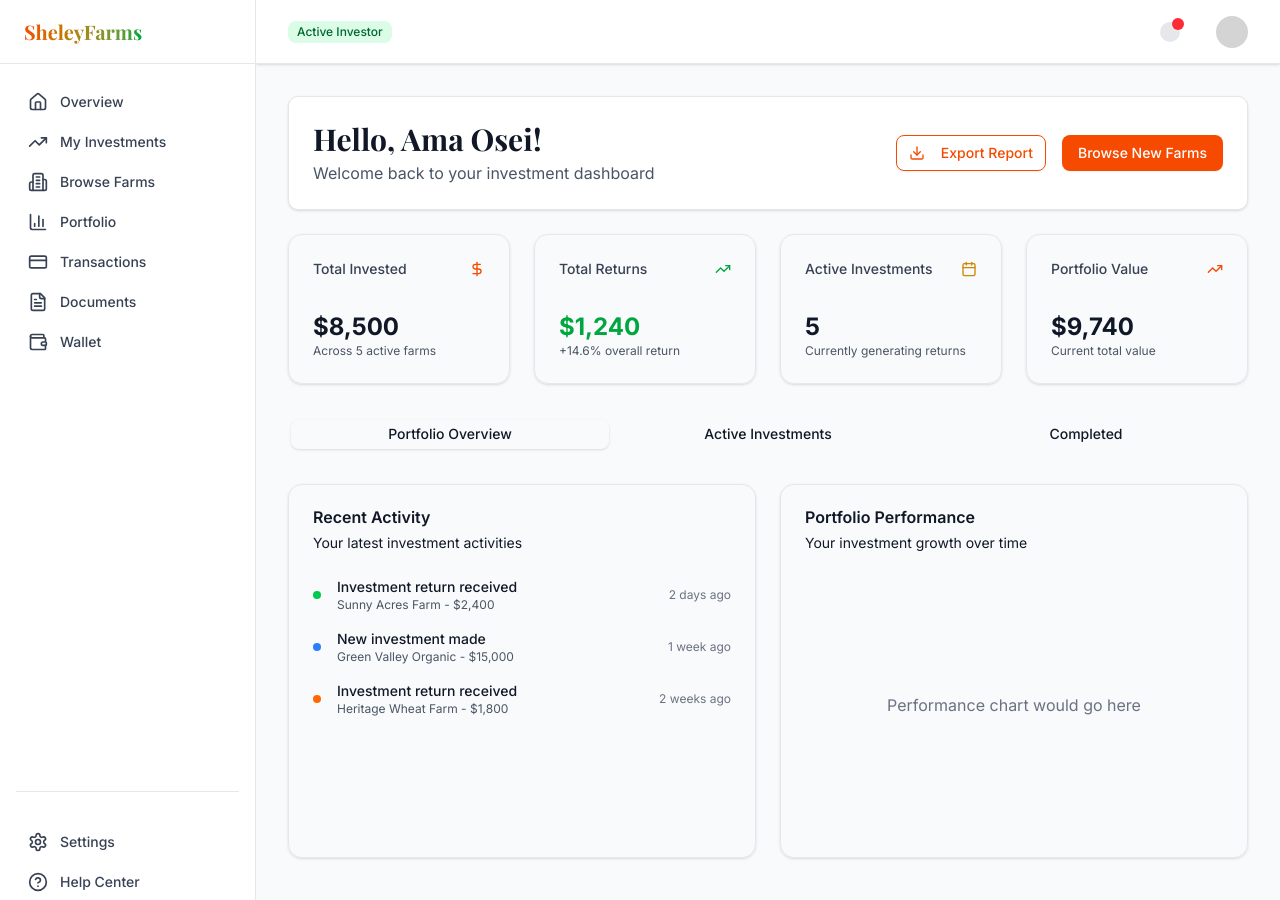
Test case: investments pages › shows the dashboard investments from the API
Click the tab "Active Investments": (768, 434) left=609, top=420, right=927, bottom=448
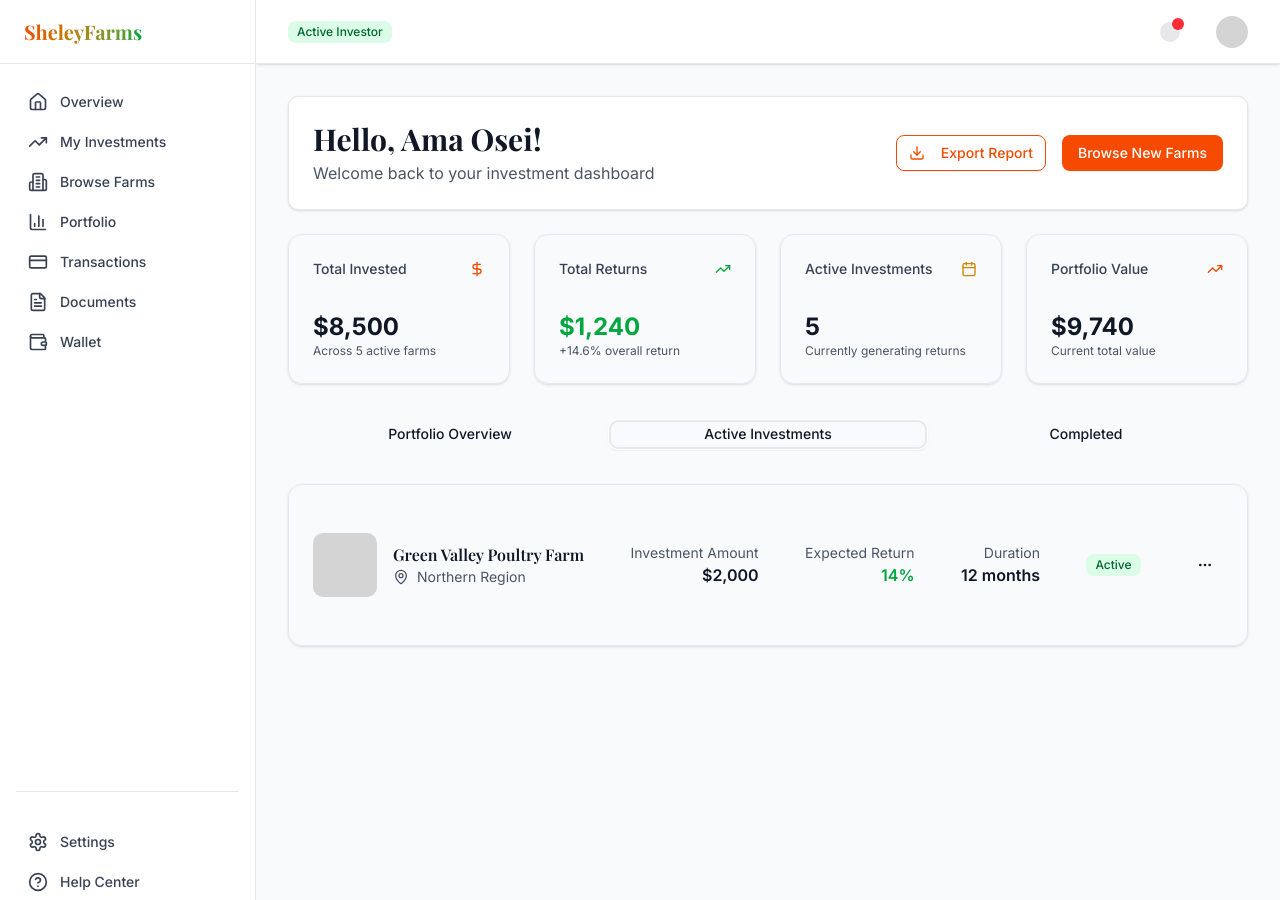
Result: the heading "Green Valley Poultry Farm" is shown at left=393, top=543, right=584, bottom=567
